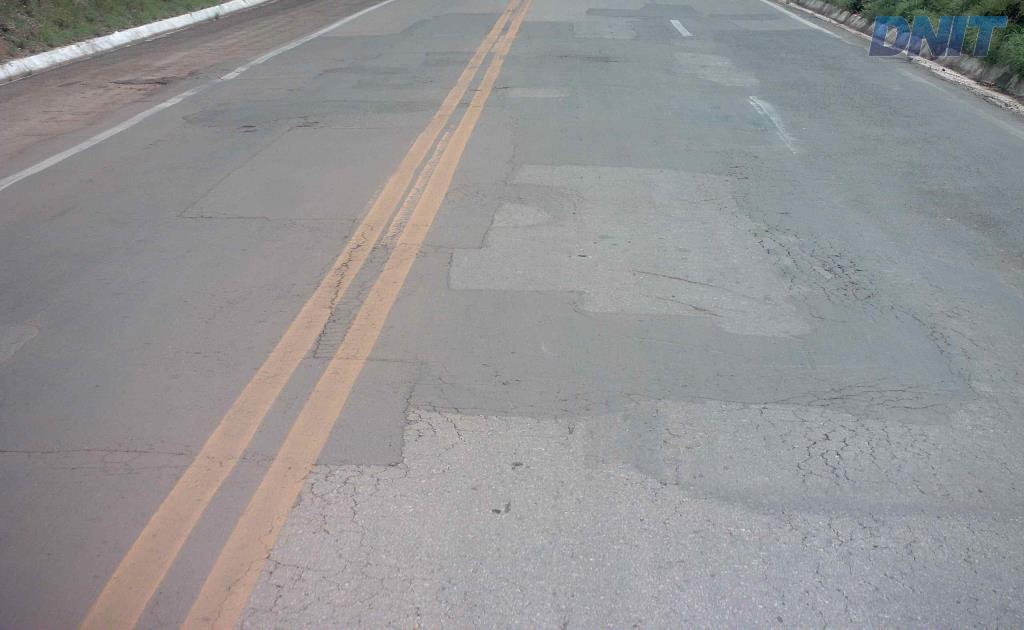crack: (760, 374, 937, 422), (809, 248, 881, 312), (911, 311, 948, 358), (311, 457, 380, 470)
